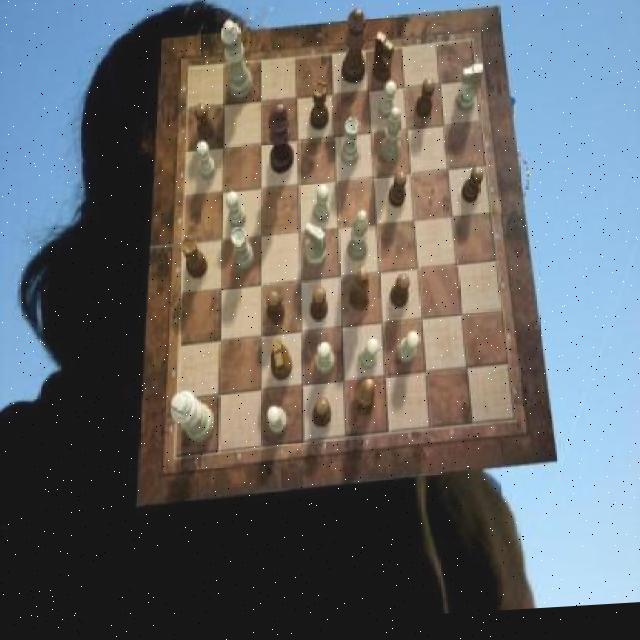bishop: (349, 272, 370, 317), (354, 382, 377, 422)
black-bishop: (268, 106, 294, 179)
black-king: (374, 35, 394, 89), (271, 340, 293, 384)
black-knight: (461, 173, 484, 210), (196, 105, 216, 145), (416, 84, 434, 125), (391, 279, 411, 314), (388, 177, 407, 213), (268, 293, 285, 328), (311, 291, 328, 326), (313, 402, 332, 431)
black-pawn: (343, 12, 368, 90)
black-queen: (182, 238, 208, 282), (310, 85, 328, 135)
black-rook: (346, 213, 369, 265), (382, 112, 402, 167)
white-bishop: (170, 391, 214, 446)
white-king: (457, 70, 485, 118), (305, 226, 327, 273)
white-knight: (398, 337, 421, 371), (226, 193, 246, 232), (197, 144, 217, 183), (314, 189, 331, 228), (379, 85, 396, 124), (360, 342, 380, 375), (316, 346, 334, 381), (268, 410, 288, 438)
white-pawn: (222, 22, 254, 102)
white-queen: (231, 228, 254, 273), (340, 122, 359, 170)
